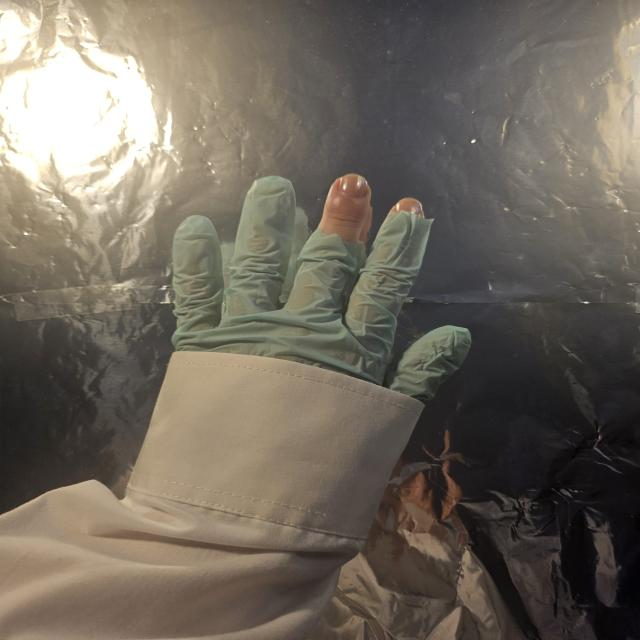gloves_damaged: (167, 171, 477, 408)
